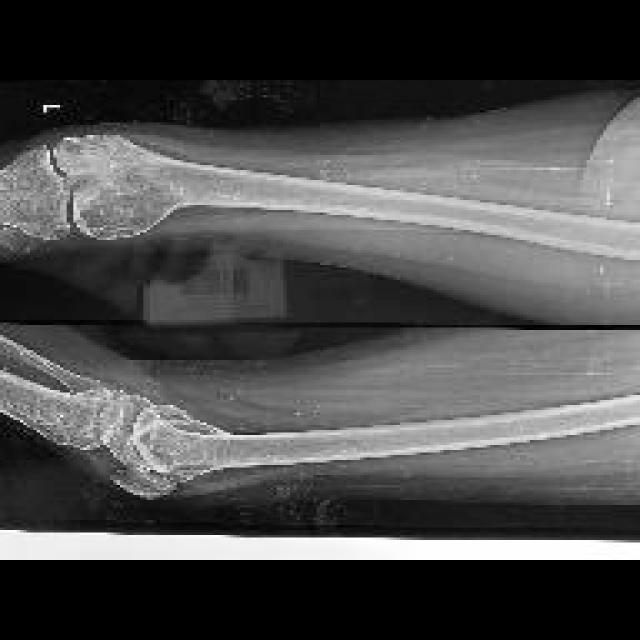bone-cancer: (124, 403, 229, 493), (84, 168, 171, 232)
